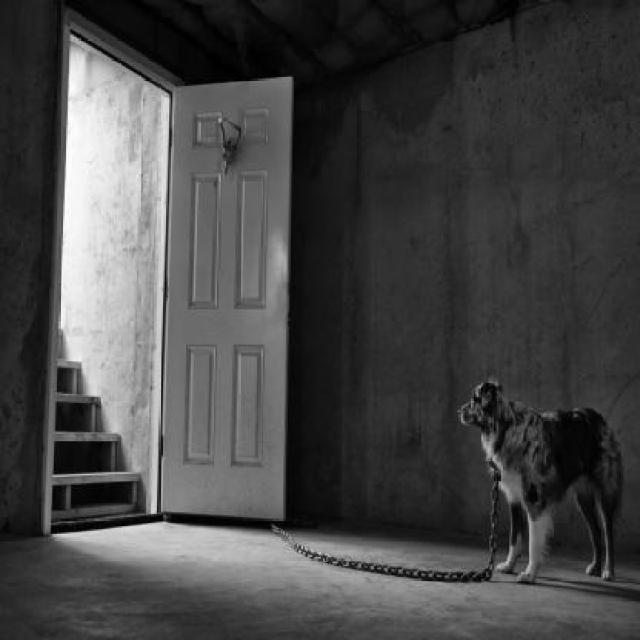stair: (50, 329, 142, 534)
